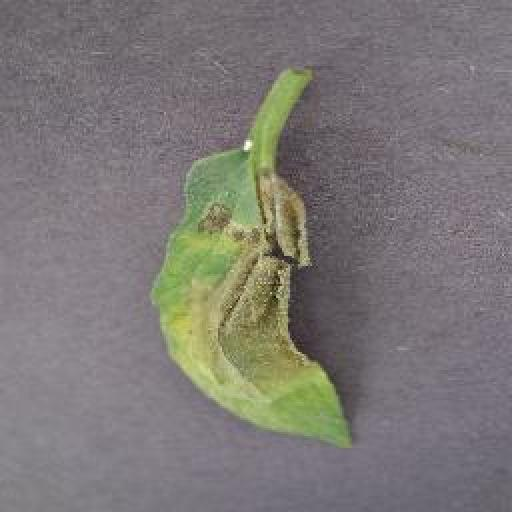Late Blight: (147, 140, 360, 456)
